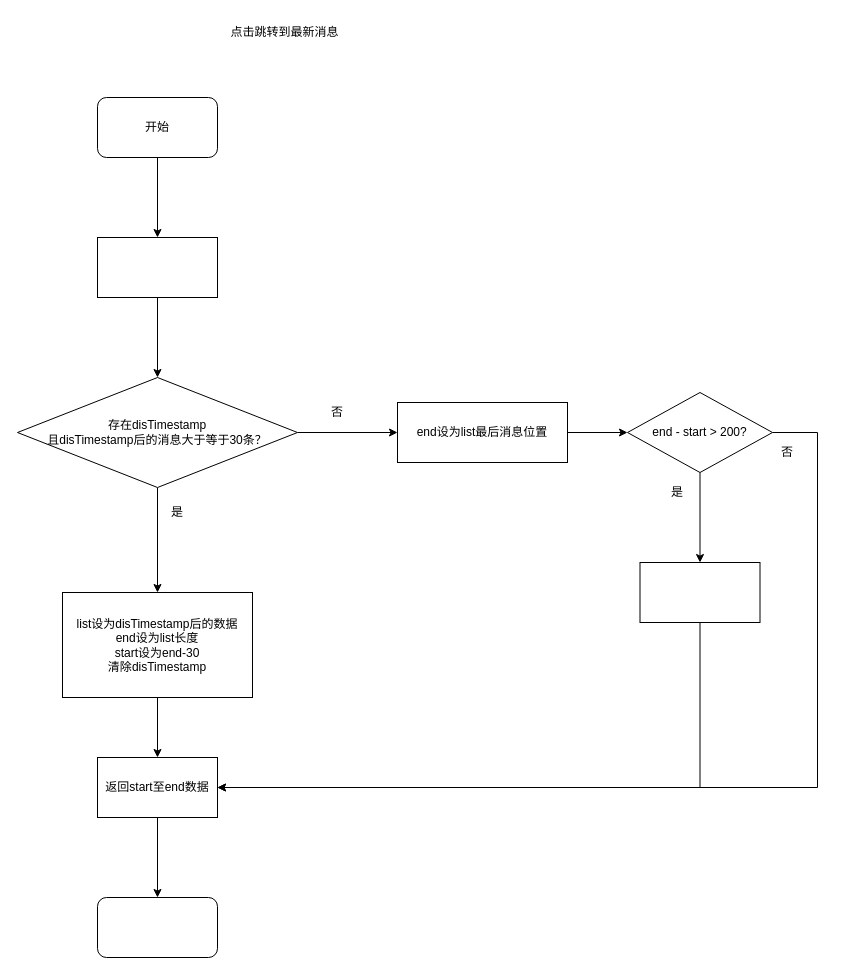
This 843x975 diagram has some shape labels left out. Here are the shapes that lost their labels. From the top down, the centre of each, then its label:
At [157,267]: "点击跳转到新消息按钮".
At [699,592]: "start设为end - 100".
At [157,927]: "结束".
